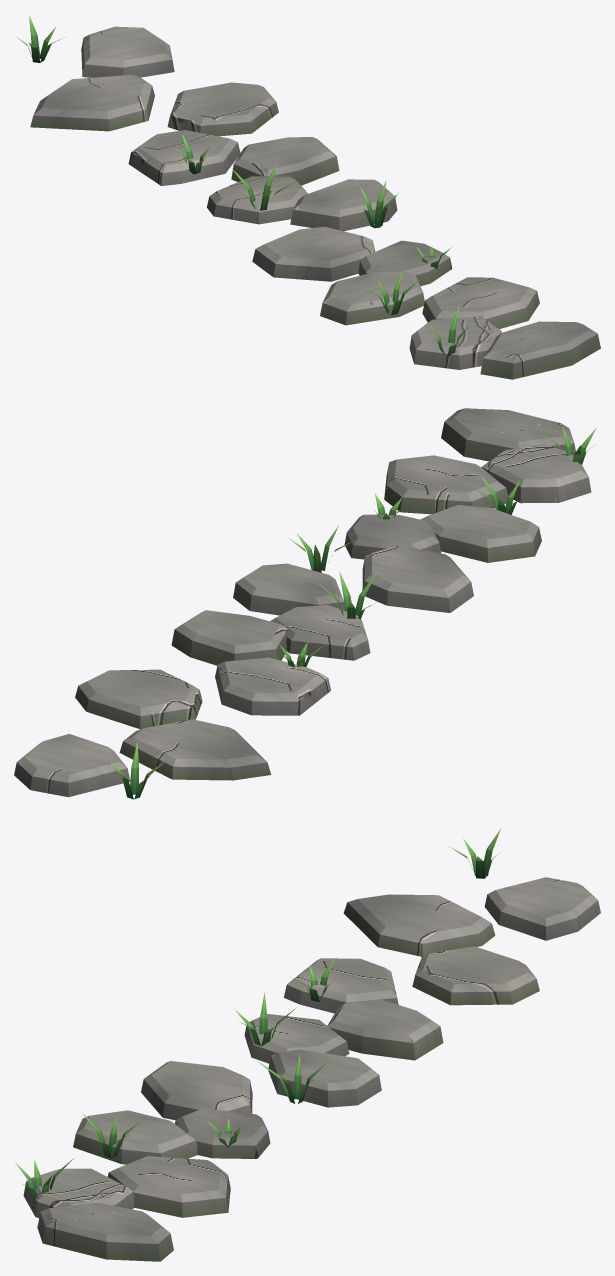
The model's file is path_stones.glb.
3 views of the same model, one above another, from view 1: azimuth 30°, elevation 25°; view 2: azimuth 150°, elevation 25°; view 3: azimuth 330°, elevation 25° (orthographic). The views are drawn at different scales.
Visible parts, largest first — view 1: path_stones_stones, path_stones_weeds; view 2: path_stones_stones, path_stones_weeds; view 3: path_stones_stones, path_stones_weeds.
Part boxes in pixels (x1,y1,x2,y2): path_stones_stones: [30, 26, 600, 379]; path_stones_weeds: [17, 15, 468, 357]; path_stones_stones: [14, 408, 591, 797]; path_stones_weeds: [111, 427, 596, 799]; path_stones_stones: [23, 877, 600, 1261]; path_stones_weeds: [14, 829, 501, 1199].
Size of the model in its own units: 1.57 by 0.3359 by 5.94.
Materials: 2 (2 with a texture image).
